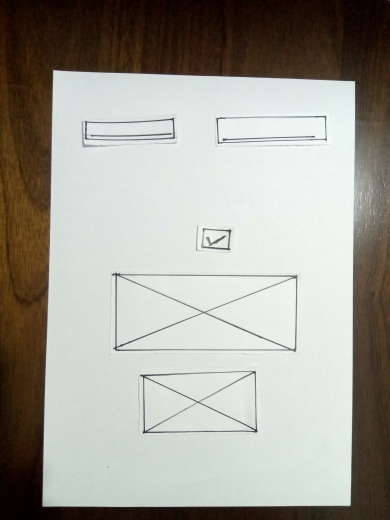checkbox: (197, 226, 230, 252)
img: (114, 275, 300, 351), (142, 368, 257, 436)
text: (219, 119, 328, 142), (84, 120, 174, 144)
